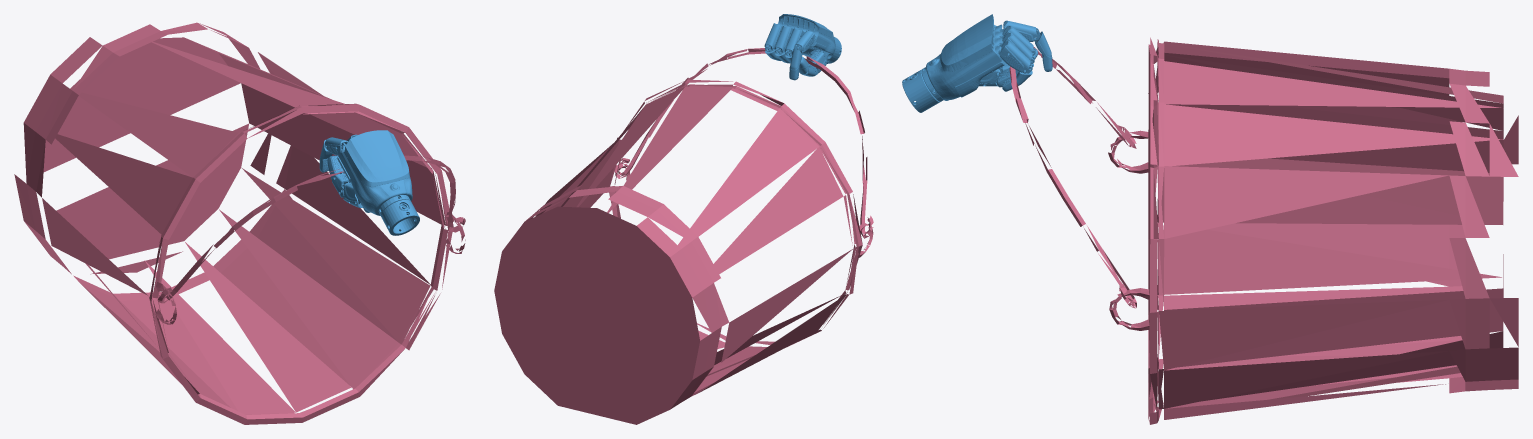
3 views of the same model, side by side, from view 1: azimuth 30°, elevation 25°; view 2: azimuth 150°, elevation 25°; view 3: azimuth 270°, elevation 25° (orthographic). The views are drawn at different scales.
Parts seen in each view (by area): view 1: 0; view 2: 0; view 3: 0.
Part boxes in pixels (x1,y1,x2,y2): 0: (14,22,465,424); 0: (494,14,873,424); 0: (902,14,1518,424).
Size of the model in its own units: 0.524 by 0.561 by 0.8186.
